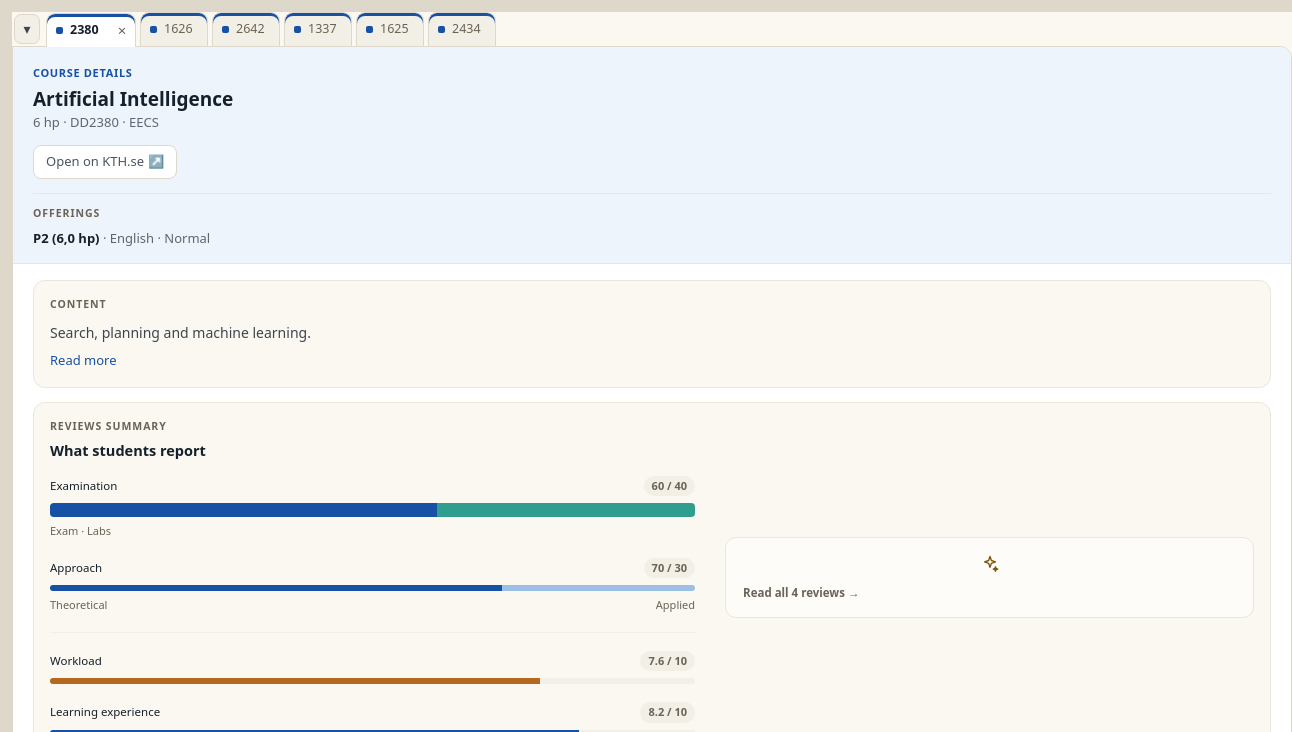
Test: WorkspacePane › lists every open course in the switcher, whatever the tabs can fit
This screenshot has width=1292, height=732.
What coordinates should you click on to do the following:
click the button named "All open panes"
I would click on:
 (27, 29)
Its box is x1=14 y1=14 x2=40 y2=44.
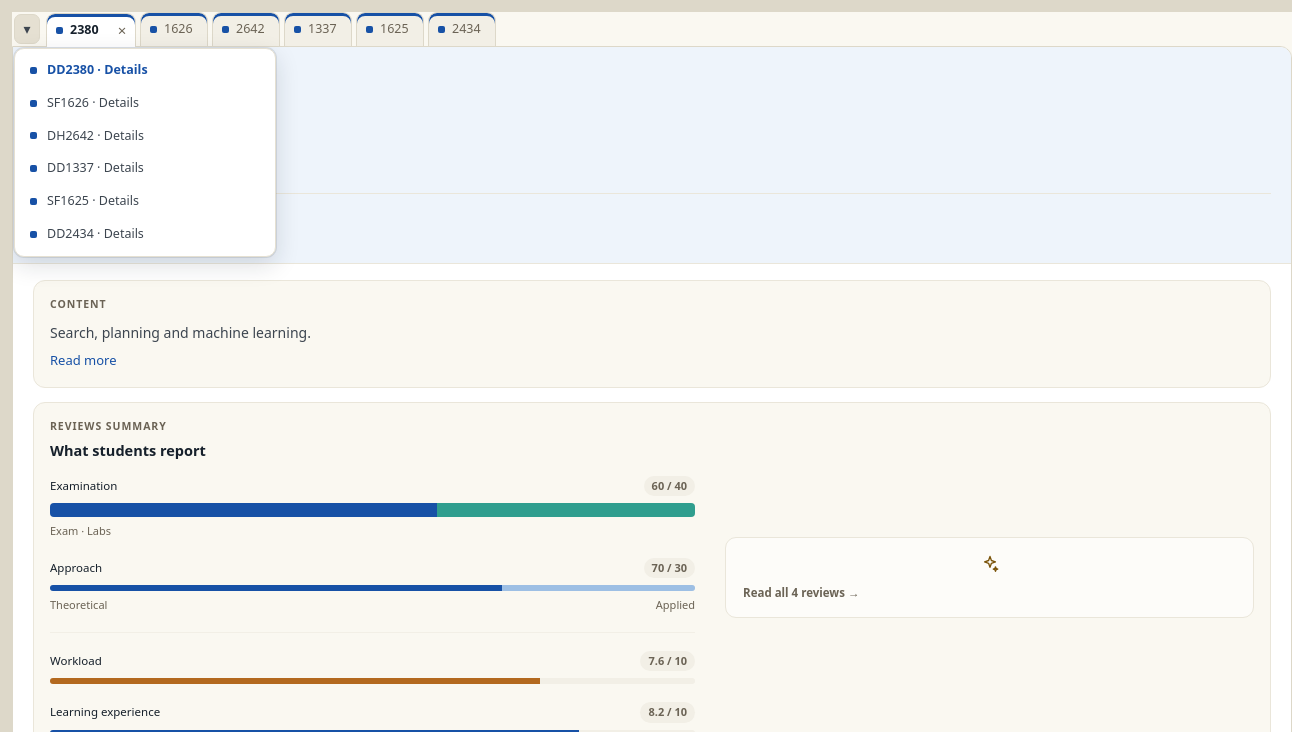
Now the menu item "DD2380 · Details" is shown, box x1=30 y1=61 x2=148 y2=78
